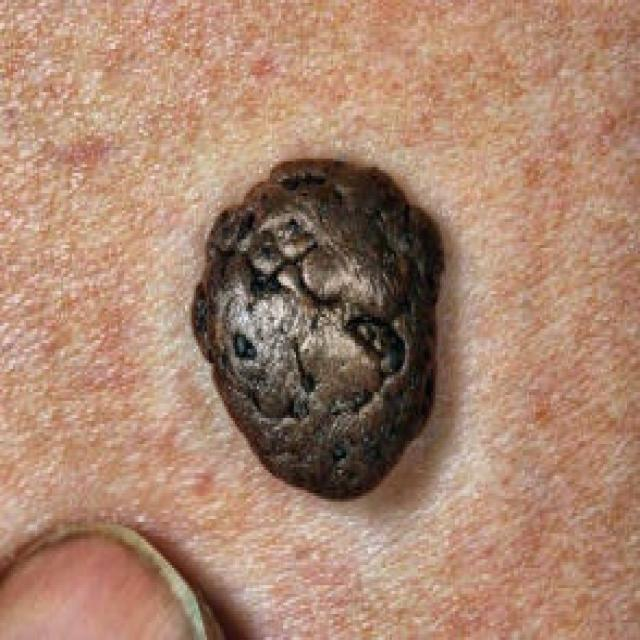Seborrheic-Keratoses-and-other-Benign-Tumors: (144, 101, 539, 537)
